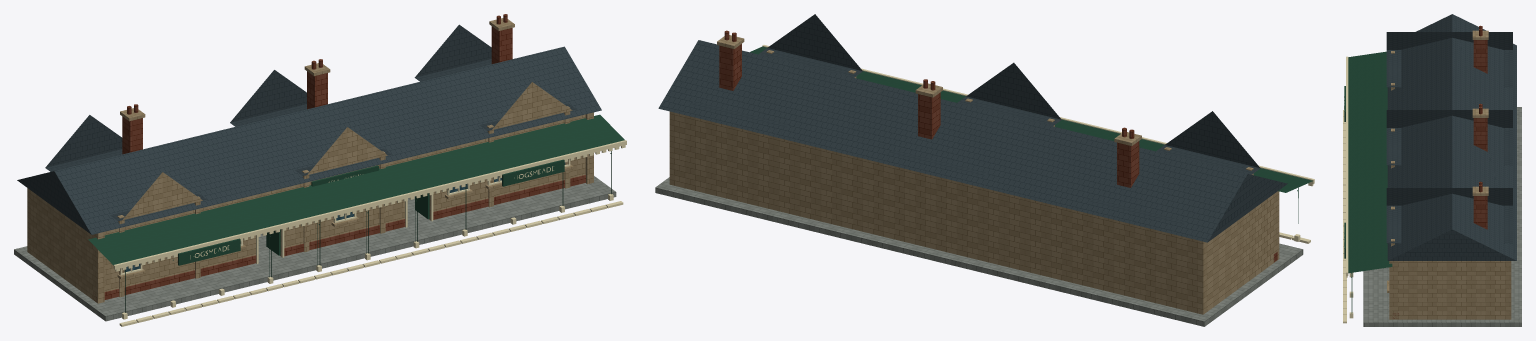
File: building_1792077235.glb
3 renders of one model, left to right at view 1: azimuth 30°, elevation 25°; view 2: azimuth 150°, elevation 25°; view 3: azimuth 270°, elevation 25°, orthographic. The views are drawn at different scales.
Parts seen in each view (by area): view 1: station; view 2: station; view 3: station.
Part boxes in pixels (x1,y1,x2,y2): station: [14, 14, 626, 326]; station: [655, 14, 1314, 326]; station: [1343, 14, 1521, 326].
Bounding box in the file's own units: 31.6 × 8.42 × 11.06.
Materials: 8 (8 with a texture image).
